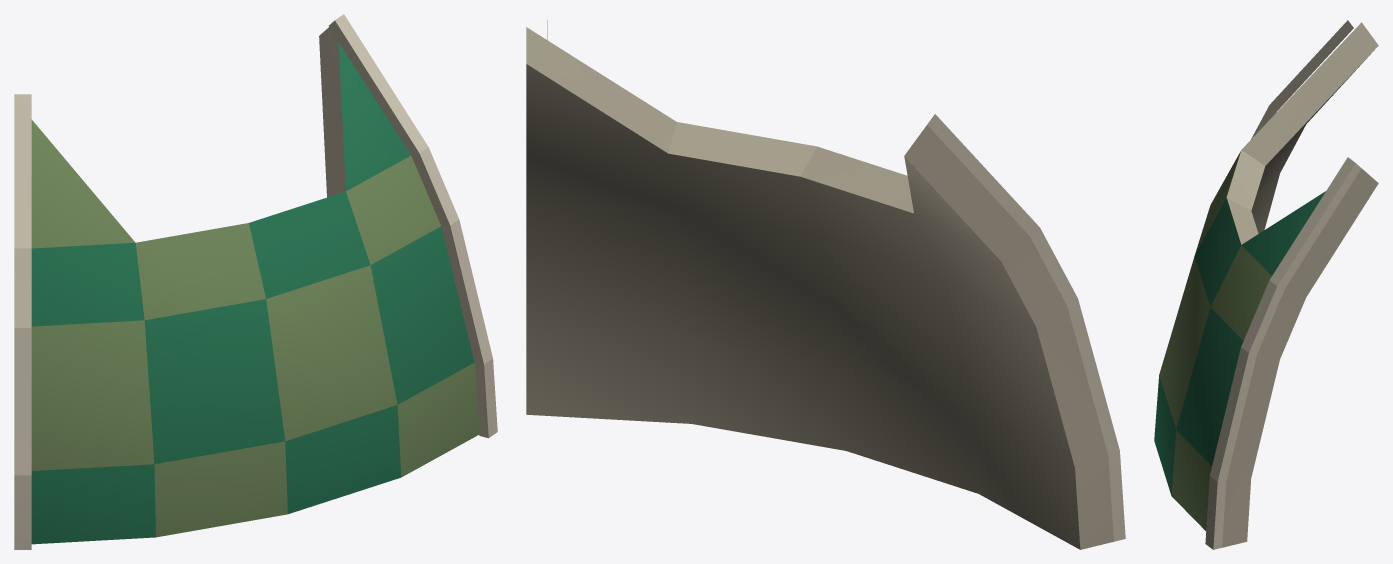
Rendered from dome.panel_6_broken.green.glb.
3 views of the same model, side by side, from view 1: azimuth 30°, elevation 25°; view 2: azimuth 150°, elevation 25°; view 3: azimuth 270°, elevation 25° (orthographic). The views are drawn at different scales.
Parts seen in each view (by area): view 1: dome_panel_6_broken_green; view 2: dome_panel_6_broken_green; view 3: dome_panel_6_broken_green.
Part boxes in pixels (box(x1,y1,x2,y2)): dome_panel_6_broken_green: box(14, 14, 497, 549); dome_panel_6_broken_green: box(526, 20, 1125, 549); dome_panel_6_broken_green: box(1154, 20, 1378, 549).
Size of what is drawn, in the model's own units: 3.57 by 2.68 by 1.55.
